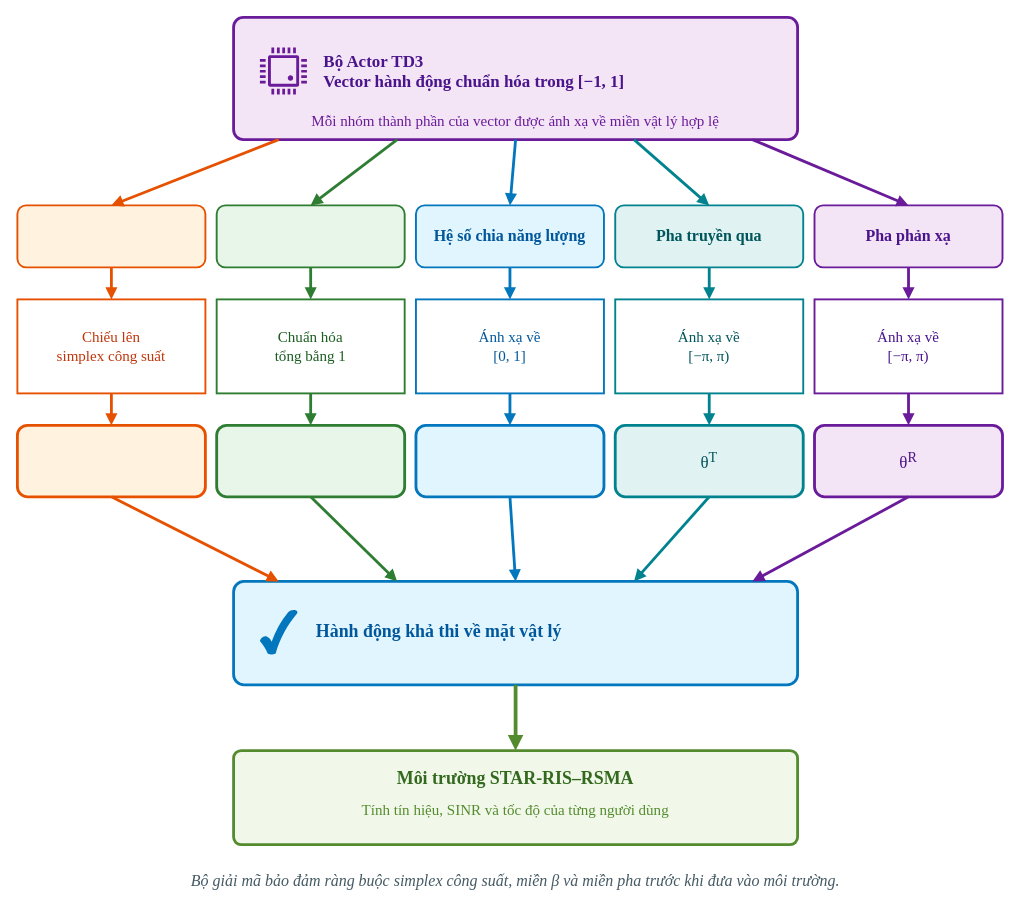
Some shapes in this 1020 by 917 pixel diagram are drawn without their labels. Each missing label, with the centre of its shape:
"Công suất" belongs at pixel 111 236.
"p c , p 1 … p K" belongs at pixel 111 460.
"Tỷ lệ tốc độ chung" belongs at pixel 310 236.
"β T" belongs at pixel 509 460.
"η 1 … η K" belongs at pixel 310 460.
